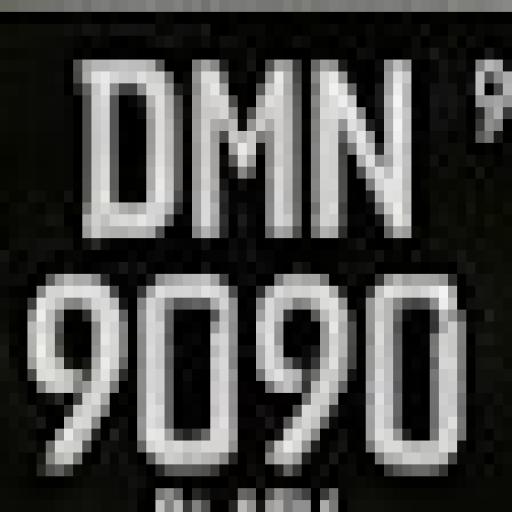0: (358, 278, 466, 472), (136, 274, 240, 474)
9: (20, 266, 126, 480), (258, 277, 350, 462)
D: (75, 56, 190, 256)
M: (190, 52, 304, 240)
N: (315, 58, 421, 244)
